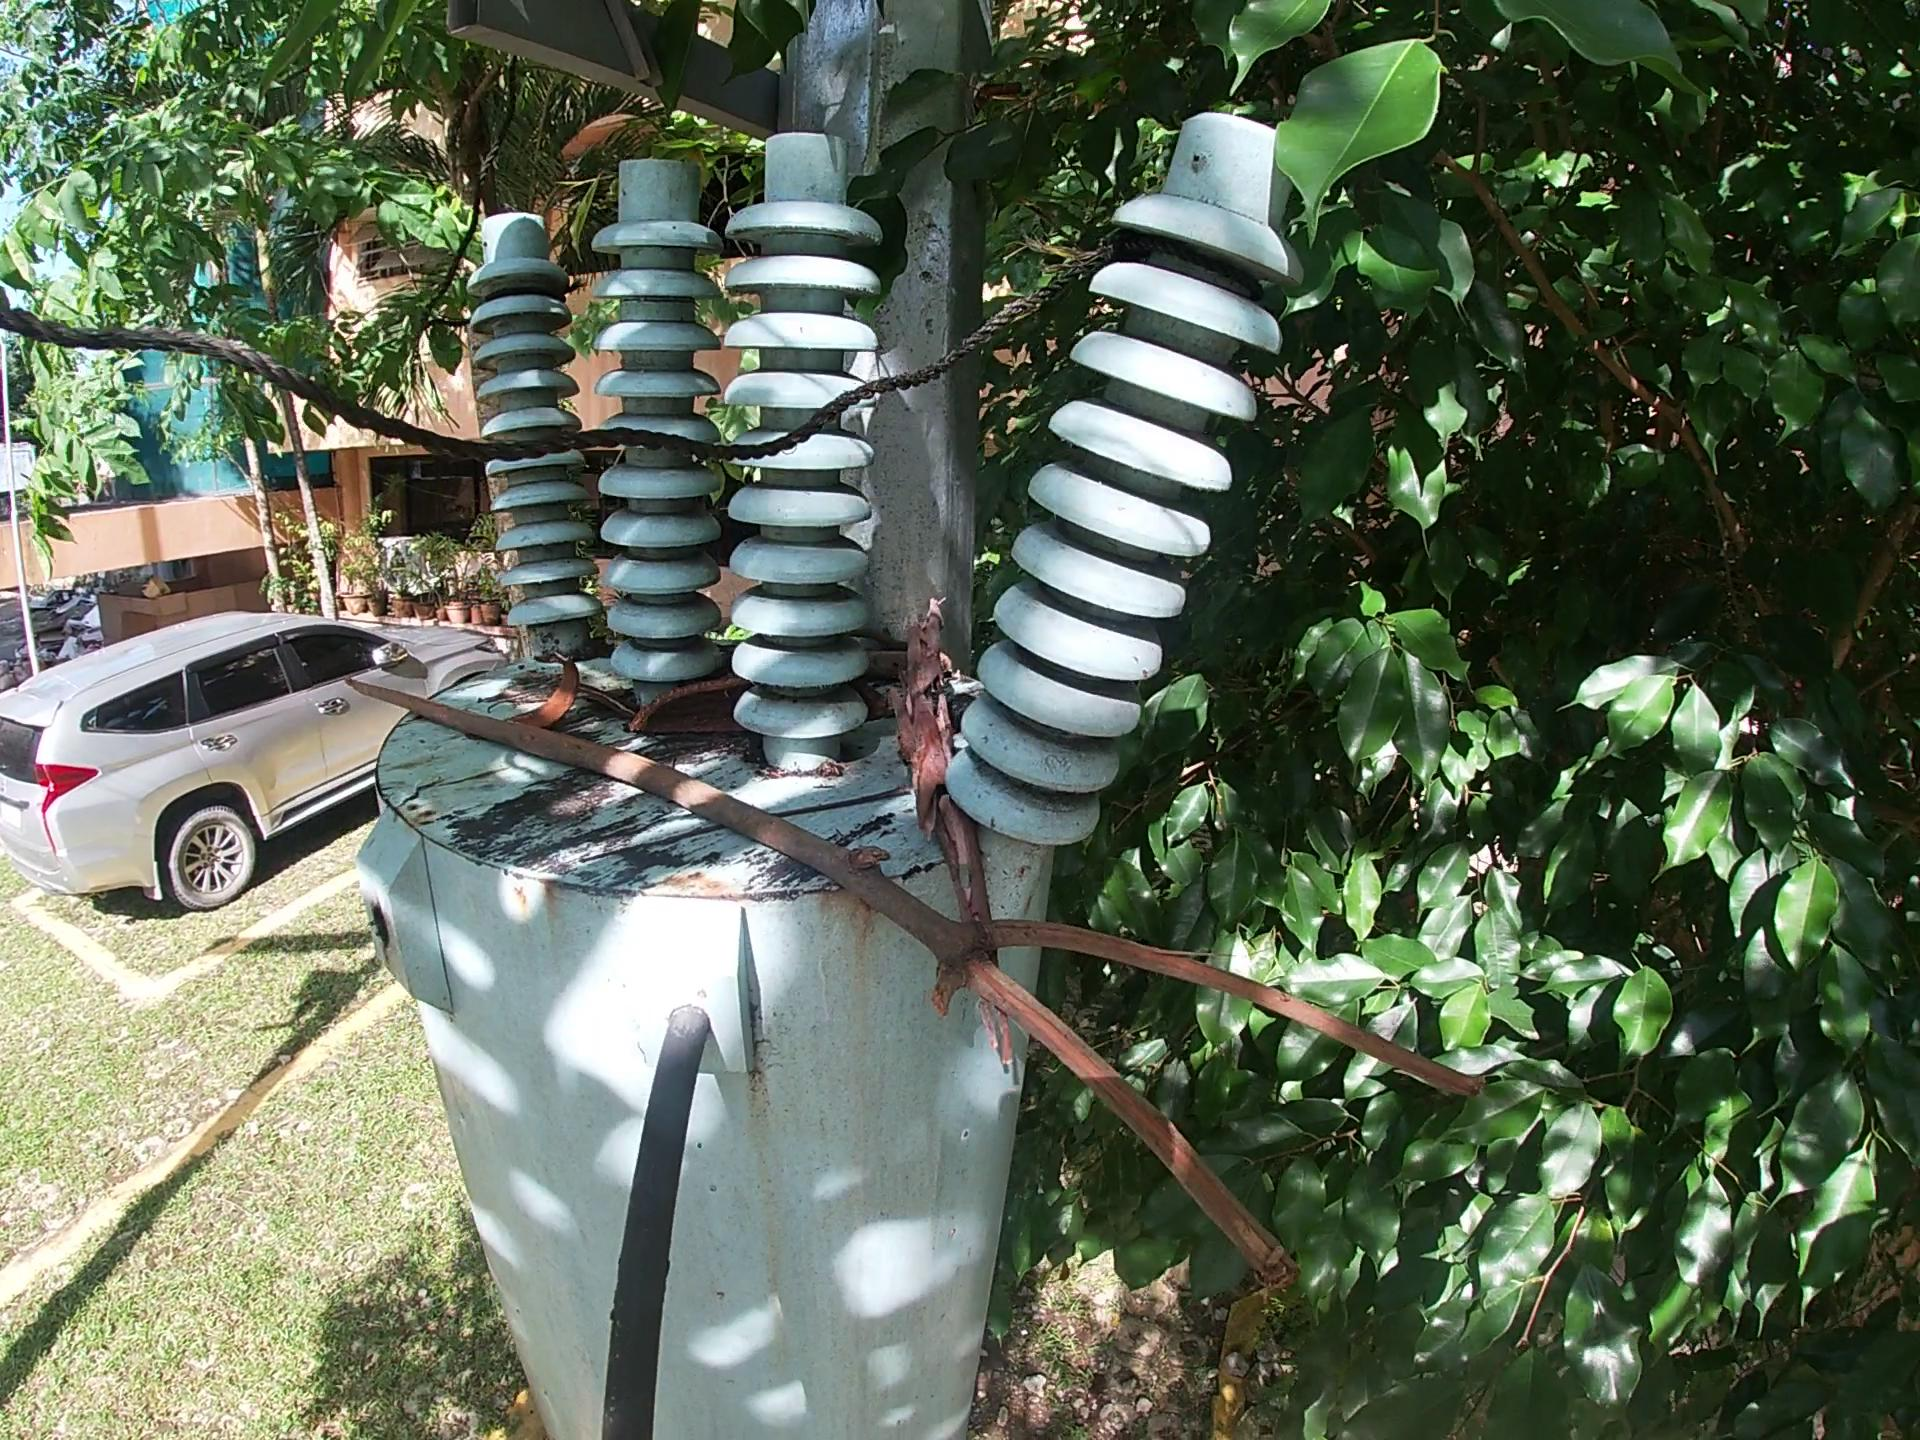mahogany fruit: (621, 675, 893, 743), (503, 650, 584, 731)
tree branch: (331, 673, 1498, 1301), (889, 593, 1020, 1075), (862, 646, 963, 685), (848, 625, 906, 650)
